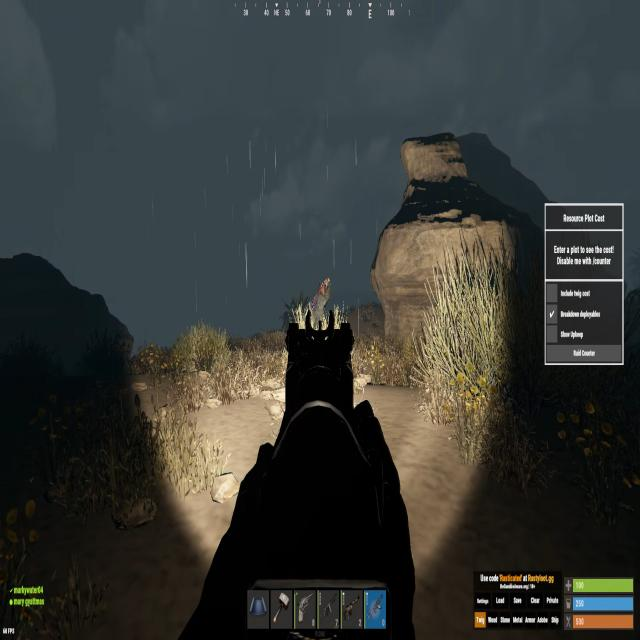Player: (311, 273, 334, 329)
